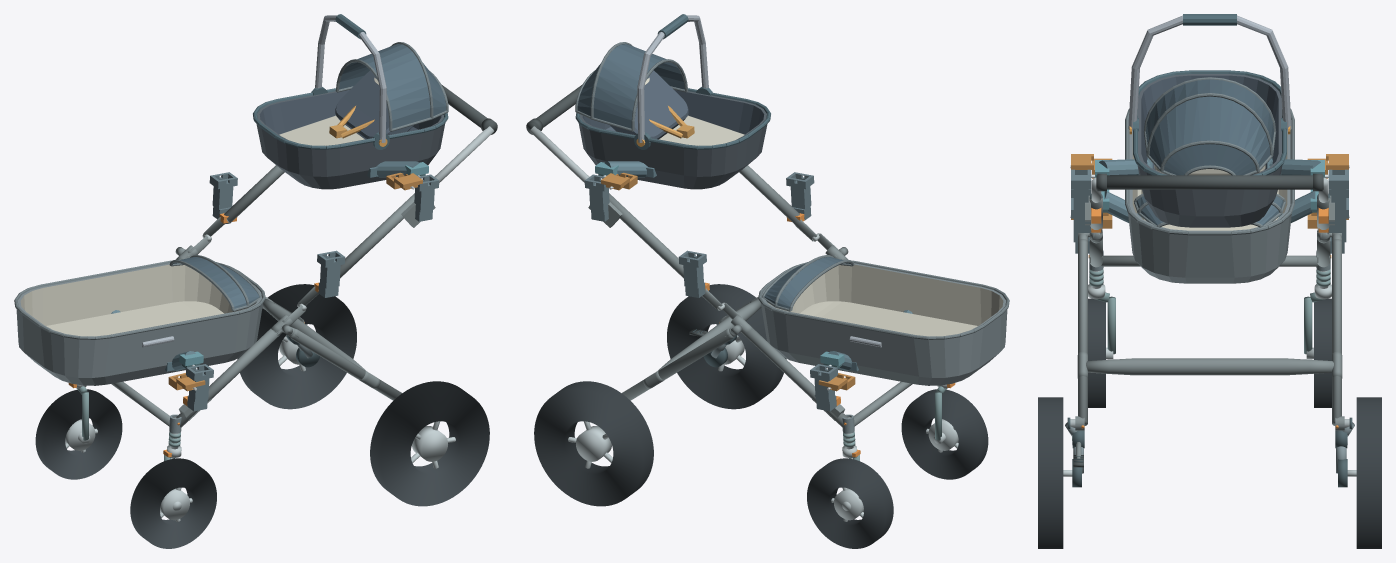
File: D07_w650_state1_wheel_L.glb
3 renders of one model, left to right at view 1: azimuth 30°, elevation 25°; view 2: azimuth 150°, elevation 25°; view 3: azimuth 270°, elevation 25°, orthographic. The views are drawn at different scales.
Visible parts, largest first — view 1: D07_Lower, D07_Upper, RL_tire.008, RR_tire.008, FL_tire.008, FR_tire.008, V46_rear_leg_-1.009, main_lower_-1.009, main_upper_-1.009, Universal_Cabin_Receiver_M_-1, RL_sealed_hub.008, Universal_Cabin_Receiver_M_1 (+9 smaller); view 2: D07_Lower, D07_Upper, RR_tire.008, RL_tire.008, FR_tire.008, FL_tire.008, V46_rear_leg_1.009, main_lower_1.009, main_upper_1.009, Universal_Cabin_Receiver_M_1, RR_sealed_hub.008, Universal_Cabin_Receiver_M_-1 (+9 smaller); view 3: D07_Upper, D07_Lower, V46_rearbar.009, RL_tire.008, RR_tire.008, round_handle.008, FL_tire.008, FR_tire.008, V46_rear_leg_1.009, V46_rear_leg_-1.009, D07_Upper_Mount_H, D07_Lower_Mount_L (+7 smaller).
Part boxes in pixels (x1,y1,x2,y2): D07_Lower: [14, 255, 265, 385]; D07_Upper: [253, 14, 448, 189]; RL_tire.008: [370, 381, 489, 506]; RR_tire.008: [237, 284, 356, 409]; FL_tire.008: [130, 458, 216, 548]; FR_tire.008: [35, 389, 122, 479]; V46_rear_leg_-1.009: [289, 328, 401, 400]; main_lower_-1.009: [176, 328, 281, 427]; main_upper_-1.009: [318, 193, 414, 283]; Universal_Cabin_Receiver_M_-1: [317, 250, 345, 297]; RL_sealed_hub.008: [412, 426, 447, 461]; Universal_Cabin_Receiver_M_1: [209, 172, 237, 219]; D07_Lower: [758, 255, 1009, 385]; D07_Upper: [575, 14, 770, 189]; RR_tire.008: [534, 381, 653, 506]; RL_tire.008: [667, 284, 786, 409]; FR_tire.008: [807, 458, 893, 548]; FL_tire.008: [901, 389, 988, 479]; V46_rear_leg_1.009: [622, 328, 734, 400]; main_lower_1.009: [742, 328, 847, 427]; main_upper_1.009: [609, 193, 705, 283]; Universal_Cabin_Receiver_M_1: [678, 250, 706, 297]; RR_sealed_hub.008: [576, 426, 611, 461]; Universal_Cabin_Receiver_M_-1: [786, 172, 814, 220]; D07_Upper: [1128, 14, 1291, 227]; D07_Lower: [1125, 109, 1294, 283]; V46_rearbar.009: [1086, 358, 1333, 375]; RL_tire.008: [1038, 397, 1063, 548]; RR_tire.008: [1356, 397, 1381, 548]; round_handle.008: [1096, 175, 1323, 189]; FL_tire.008: [1088, 298, 1105, 407]; FR_tire.008: [1314, 298, 1331, 407]; V46_rear_leg_1.009: [1332, 239, 1341, 425]; V46_rear_leg_-1.009: [1078, 239, 1087, 425]; D07_Upper_Mount_H: [1091, 157, 1328, 177]; D07_Lower_Mount_L: [1101, 189, 1318, 222].
Bounding box in the file's own units: 1.39 × 1.36 × 0.8171.
